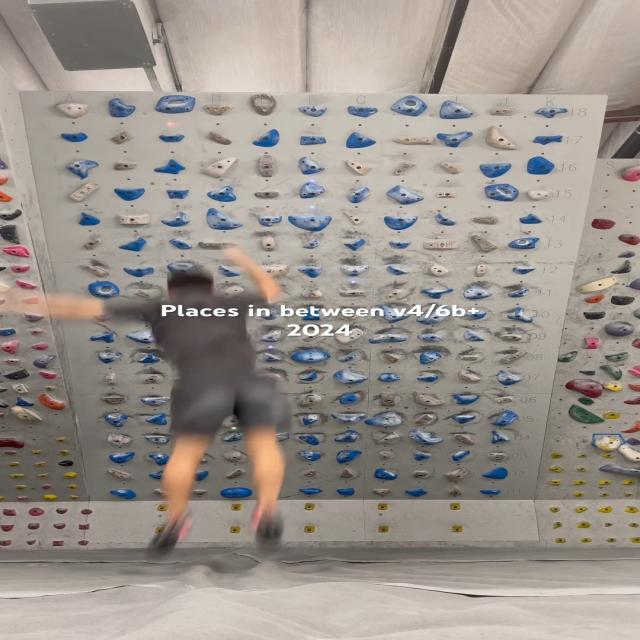A1: (110, 488, 136, 499)
A11: (88, 281, 120, 298)
A12: (80, 264, 108, 278)
A13: (83, 238, 102, 250)
A14: (78, 212, 100, 226)
A15: (69, 180, 101, 202)
A16: (66, 158, 100, 178)
A17: (60, 132, 88, 142)
A18: (54, 102, 90, 119)
A2: (107, 469, 131, 481)
A3: (108, 451, 136, 464)
A4: (106, 432, 132, 446)
A5: (105, 414, 128, 426)
A6: (101, 396, 125, 405)
A7: (105, 372, 118, 386)
A8: (98, 351, 123, 363)
A9: (91, 332, 115, 343)
B11: (134, 290, 151, 298)
B12: (123, 267, 155, 277)
B13: (119, 236, 148, 252)
B14: (118, 214, 152, 225)
B15: (113, 187, 145, 201)
B16: (113, 161, 138, 171)
B17: (111, 131, 135, 145)
B18: (108, 98, 136, 118)
B4: (144, 435, 170, 444)
B5: (146, 413, 168, 425)
B6: (139, 396, 170, 406)
B7: (140, 374, 166, 385)
B8: (137, 352, 161, 363)
C1: (192, 490, 206, 496)
C13: (168, 238, 193, 250)
C14: (160, 211, 190, 227)
C15: (167, 189, 189, 199)
C16: (154, 158, 187, 174)
C17: (158, 134, 184, 142)
C18: (156, 95, 198, 114)
D1: (220, 488, 253, 498)
D12: (217, 266, 240, 278)
D14: (206, 207, 244, 230)
D15: (207, 186, 237, 203)
D16: (198, 156, 236, 179)
D17: (205, 132, 233, 146)
D18: (201, 105, 233, 116)
D2: (226, 470, 246, 480)
D3: (226, 452, 242, 461)
D4: (222, 432, 245, 442)
E13: (261, 237, 276, 252)
E14: (257, 215, 283, 227)
E15: (254, 192, 278, 198)
E16: (258, 154, 276, 178)
E17: (252, 128, 280, 147)
E18: (248, 94, 277, 116)
E8: (262, 352, 282, 363)
E9: (259, 329, 284, 343)
F: (156, 503, 169, 511), (451, 525, 464, 533), (231, 503, 243, 511), (304, 503, 316, 511), (229, 526, 242, 533), (378, 525, 389, 533), (304, 526, 316, 533), (449, 503, 461, 510), (377, 503, 388, 510)
F1: (299, 488, 324, 494)
F11: (301, 288, 323, 298)
F12: (298, 266, 322, 278)
F13: (302, 238, 321, 250)
F14: (287, 215, 332, 233)
F15: (299, 182, 326, 198)
F16: (298, 156, 325, 175)
F17: (300, 135, 326, 146)
F18: (297, 106, 328, 117)
F2: (304, 470, 318, 477)
F3: (298, 451, 323, 462)
F4: (297, 434, 320, 446)
F5: (300, 414, 320, 425)
F6: (296, 393, 322, 408)
F7: (298, 371, 319, 382)
F8: (289, 349, 331, 363)
G1: (336, 487, 355, 496)
G11: (339, 290, 366, 297)
G12: (338, 266, 368, 276)
G13: (343, 238, 365, 251)
G14: (342, 212, 363, 226)
G15: (347, 187, 371, 204)
G16: (344, 158, 372, 175)
G17: (346, 132, 377, 149)
G18: (347, 105, 378, 118)
G2: (340, 469, 353, 478)
G3: (337, 449, 364, 464)
G4: (333, 430, 358, 443)
G5: (331, 412, 365, 425)
G6: (339, 393, 361, 405)
G7: (332, 368, 368, 385)
G8: (336, 352, 359, 363)
H1: (372, 488, 391, 495)
H11: (385, 289, 403, 300)
H12: (386, 266, 409, 276)
H13: (389, 240, 412, 249)
H14: (384, 216, 418, 230)
H15: (384, 184, 424, 204)
H16: (393, 161, 417, 176)
H17: (392, 136, 434, 146)
H18: (391, 95, 429, 116)
H2: (375, 468, 398, 480)
H3: (378, 451, 392, 461)
H4: (375, 432, 400, 444)
H5: (365, 412, 402, 428)
H6: (378, 392, 397, 407)
H7: (377, 372, 401, 382)
H8: (382, 353, 400, 363)
H9: (366, 332, 407, 344)
I1: (404, 487, 428, 497)
I11: (420, 288, 454, 299)
I12: (428, 264, 450, 277)
I13: (422, 242, 460, 250)
I14: (435, 213, 457, 226)
I15: (437, 192, 457, 199)
I16: (438, 162, 461, 176)
I17: (436, 130, 473, 148)
I18: (439, 100, 473, 120)
I2: (411, 471, 428, 478)
I3: (413, 452, 432, 462)
I4: (408, 428, 444, 446)
I5: (415, 414, 435, 424)
I6: (412, 390, 446, 407)
I7: (416, 374, 440, 382)
I8: (419, 351, 443, 365)
I9: (417, 333, 445, 342)
J1: (447, 486, 462, 496)
J11: (463, 286, 492, 300)
J12: (475, 264, 487, 278)
J13: (471, 235, 498, 253)
J14: (471, 216, 499, 224)
J15: (485, 183, 519, 201)
J16: (479, 162, 512, 177)
J17: (485, 126, 519, 150)
J18: (490, 108, 518, 116)
J2: (444, 467, 471, 482)
J3: (451, 450, 471, 462)
J4: (454, 434, 476, 445)
J5: (451, 415, 477, 423)
J6: (453, 393, 480, 405)
J7: (457, 370, 482, 382)
J8: (459, 355, 478, 361)
J9: (462, 330, 484, 341)
K1: (479, 489, 501, 495)
K10: (507, 306, 534, 323)
K11: (508, 288, 530, 298)
K12: (512, 266, 536, 274)
K13: (507, 238, 540, 250)
K14: (518, 213, 543, 224)
K15: (527, 189, 552, 201)
K16: (526, 156, 555, 175)
K17: (533, 134, 563, 144)
K18: (534, 108, 570, 119)
K2: (482, 466, 509, 479)
K3: (486, 453, 506, 461)
K4: (491, 430, 511, 444)
K5: (491, 409, 518, 427)
K6: (494, 395, 514, 403)
K7: (497, 370, 522, 386)
K8: (498, 350, 527, 364)
K9: (500, 335, 522, 341)
